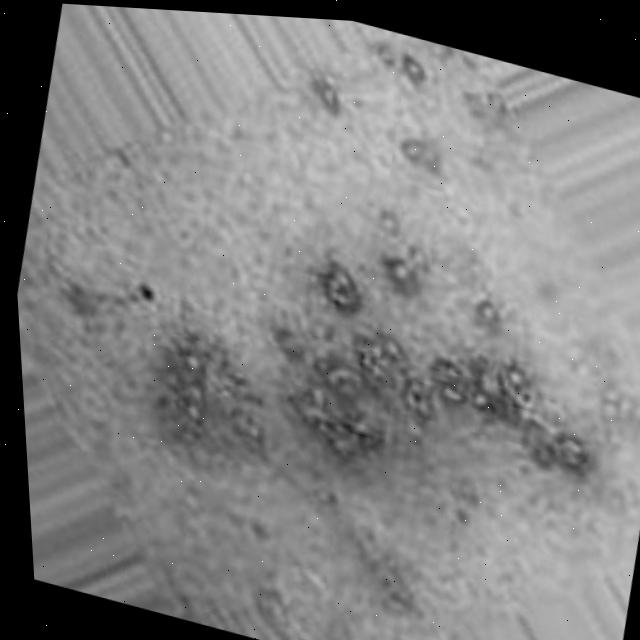Shingles: (126, 199, 628, 561)
